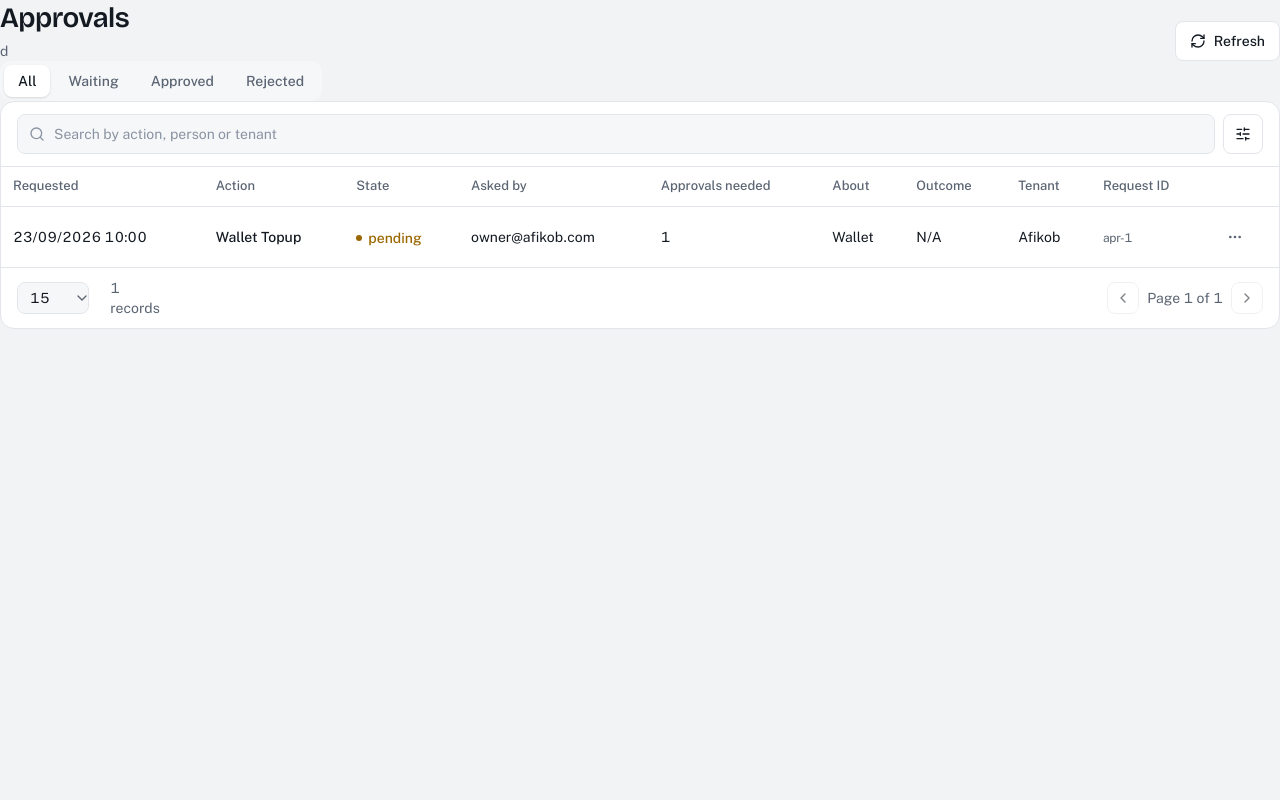
Test: Approvals inbox › will not decide a request someone else already decided
Click the button named "Request actions".
click(1235, 237)  # box [1219,221,1251,253]
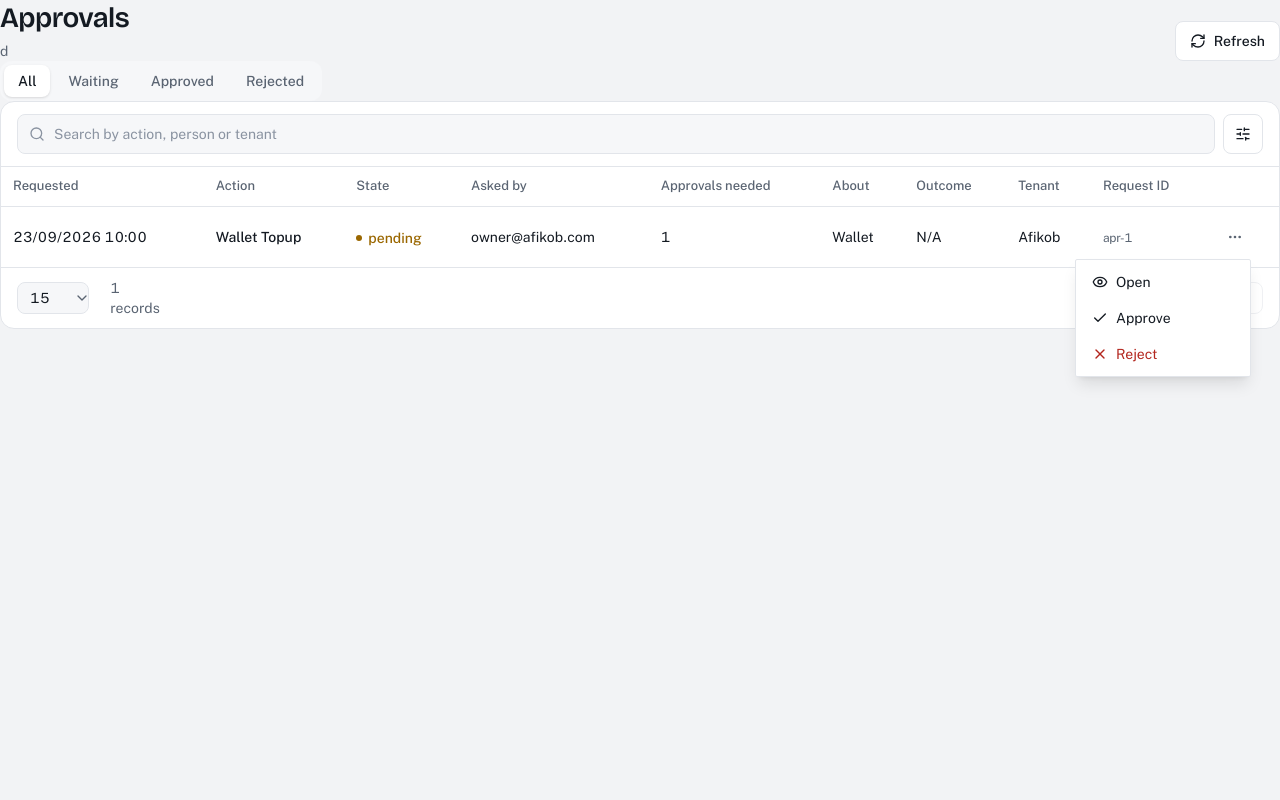
Click the menu item "Approve".
click(1131, 318)  # box [1092,310,1171,326]
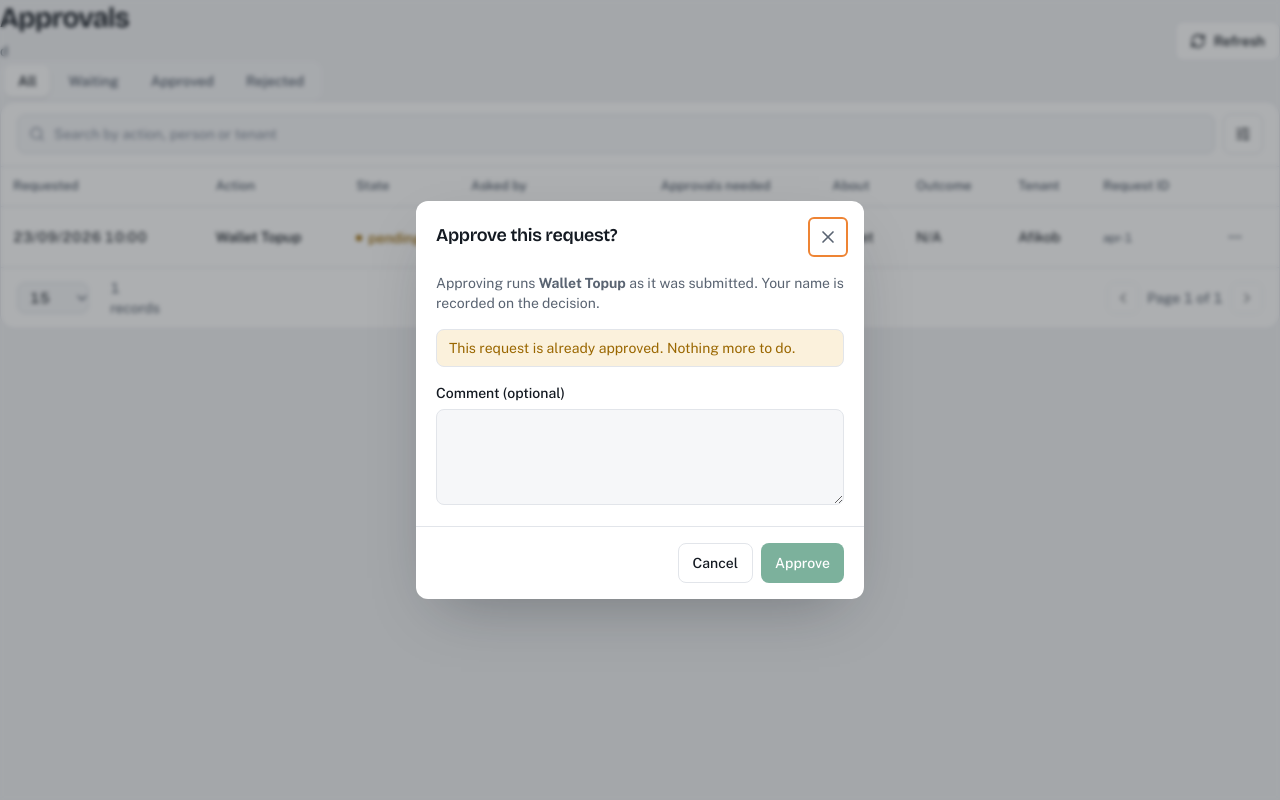
Check: the text "This request is already approved. Nothing more to do." is shown, box [436,329,844,367]
Check: the button "Approve" is disabled, box [761,543,844,583]
